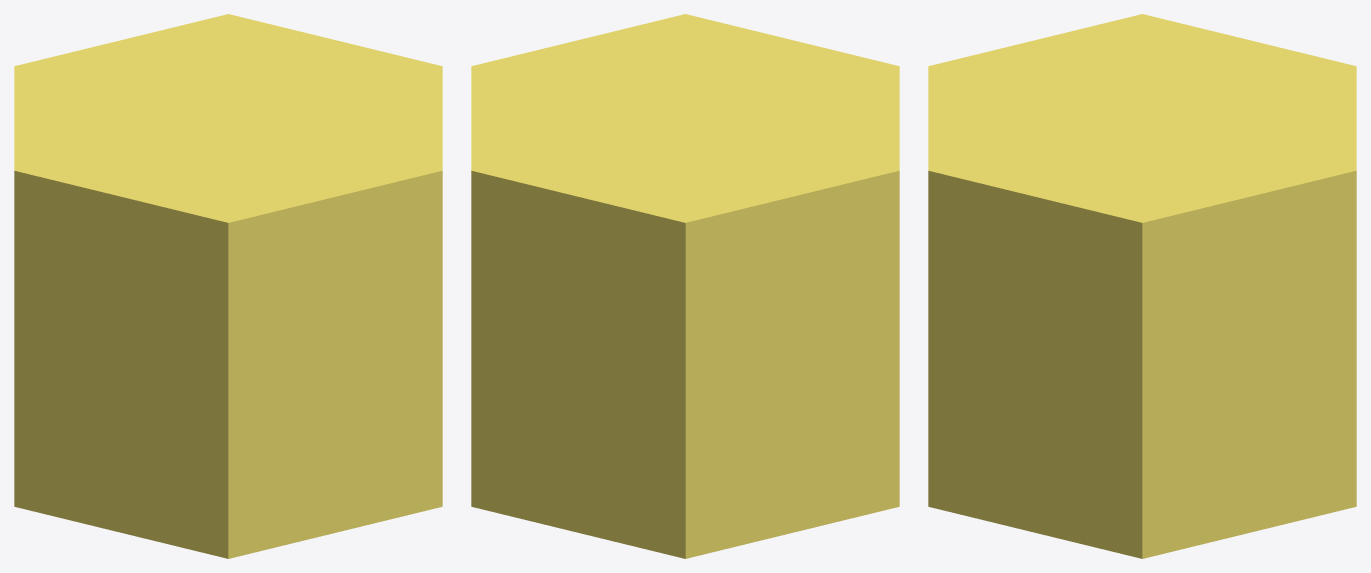
The model's file is hexagon.glb.
3 renders of one model, left to right at view 1: azimuth 30°, elevation 25°; view 2: azimuth 150°, elevation 25°; view 3: azimuth 270°, elevation 25°, orthographic.
Bounding box in the file's own units: 24 × 18 × 20.78.
